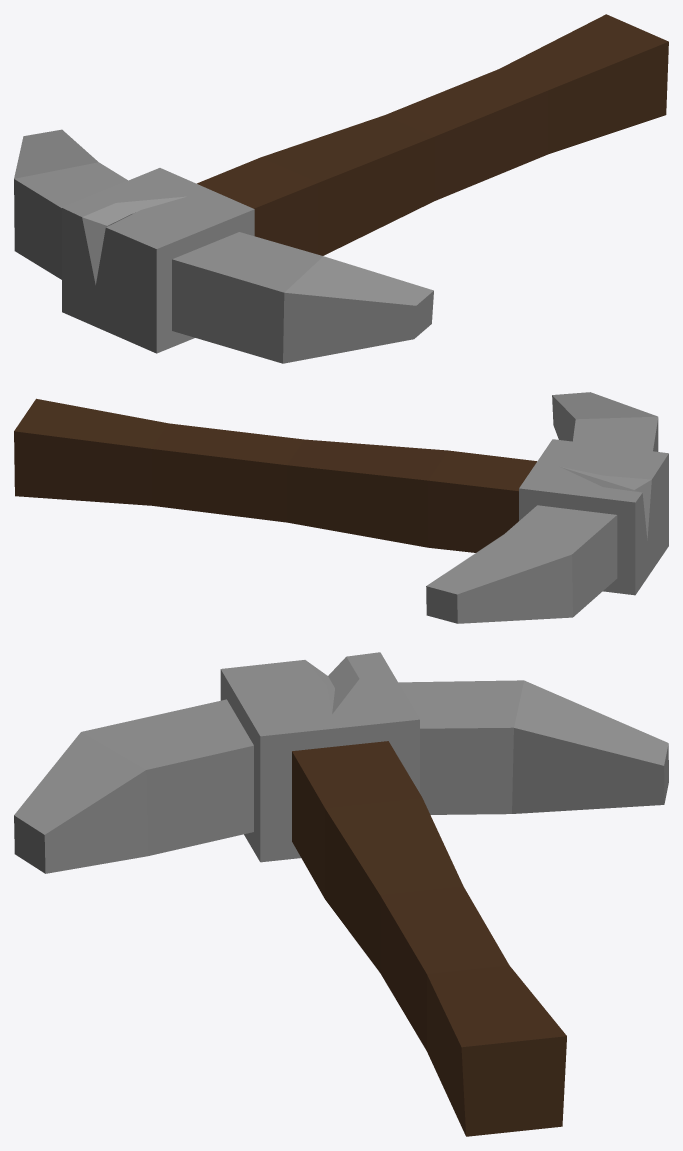
File: Pickaxe.fbx
The picture shows the model from 3 angles, top to bottom: view 1: azimuth 30°, elevation 25°; view 2: azimuth 150°, elevation 25°; view 3: azimuth 270°, elevation 25°; orthographic projection. The views are drawn at different scales.
Parts seen in each view (by area): view 1: Cube.238, Cube.237; view 2: Cube.237, Cube.238; view 3: Cube.238, Cube.237.
Part boxes in pixels (left/top/right/bottom): Cube.238: left=14, top=129, right=433, bottom=363; Cube.237: left=197, top=14, right=668, bottom=255; Cube.237: left=14, top=398, right=536, bottom=552; Cube.238: left=426, top=392, right=668, bottom=623; Cube.238: left=14, top=652, right=668, bottom=873; Cube.237: left=292, top=741, right=566, bottom=1136.
Size of the model in its own units: 35.22 by 5.49 by 25.85.
